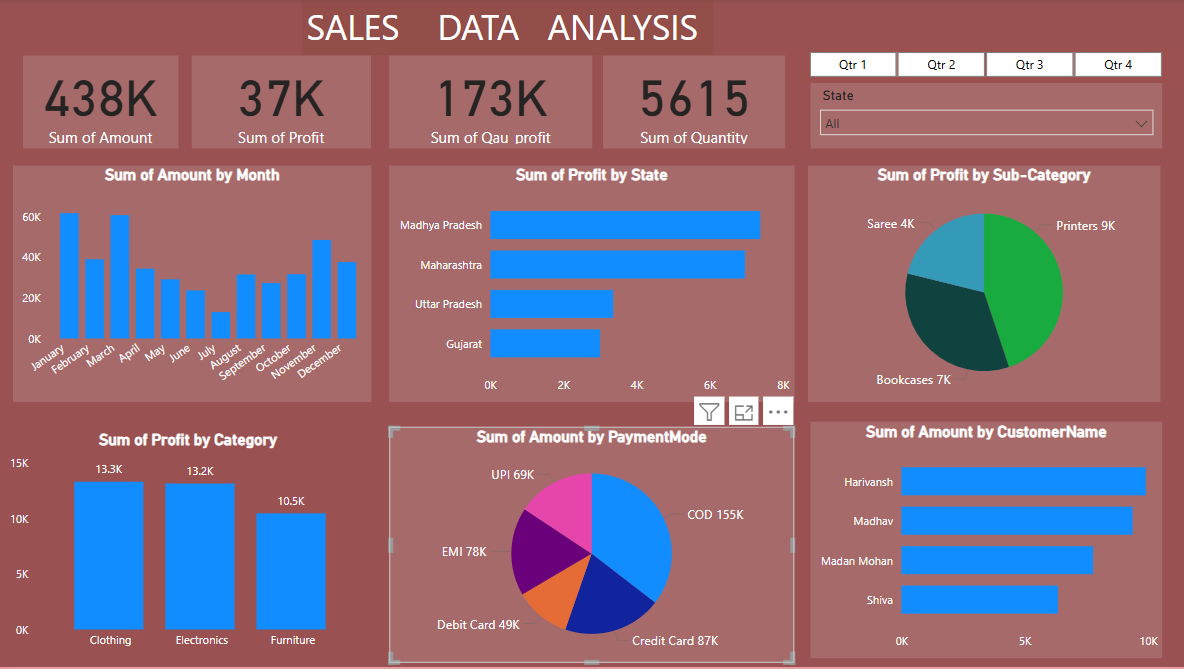

This screenshot's page, from the dashboard's own definition file:
{"tool":"powerbi","page":{"name":"Page 1","canvas":[1280,720],"ordinal":0},"visuals":[{"type":"columnChart","fields":{"Y":["Details (2).Amount"],"Category":["Orders.Order Date.Variation.Date Hierarchy.Month"]},"box":[15.7,180,385.7,254.3],"z":0},{"type":"clusteredColumnChart","fields":{"Category":["Details (2).Category"],"Y":["Details (2).Profit"]},"box":[8.6,465.7,392.9,244.3],"z":1000},{"type":"clusteredBarChart","fields":{"Y":["Details (2).Profit"],"Category":["Orders.State"]},"box":[421.4,180,435.7,254.3],"z":2000},{"type":"pieChart","fields":{"Series":["Details (2).PaymentMode"],"Y":["Details (2).Amount"]},"box":[421.4,461.4,435.7,254.3],"z":3000},{"type":"card","fields":{"Values":["Details (2).Amount"]},"box":[27.1,61.4,167.1,100],"z":4000},{"type":"card","fields":{"Values":["Details (2).Profit"]},"box":[208.6,61.4,192.9,100],"z":5000},{"type":"card","fields":{"Values":["Details (2).Quantity"]},"box":[651.4,61.4,195.7,100],"z":6000},{"type":"slicer","fields":{"Values":["Orders.Order Date.Variation.Date Hierarchy.Quarter"]},"box":[847.1,51.4,428.6,40],"z":7000},{"type":"clusteredBarChart","fields":{"Y":["Details (2).Amount"],"Category":["Orders.CustomerName"]},"box":[874.3,455.7,378.6,254.3],"z":8000},{"type":"slicer","fields":{"Values":["Orders.State"]},"box":[874.3,91.4,378.6,70],"z":9000},{"type":"pieChart","fields":{"Category":["Details (2).Sub-Category"],"Y":["Details (2).Profit"]},"box":[871.4,180.2,379.2,254.2],"z":10000},{"type":"textbox","box":[327.1,0,442.9,61.4],"z":11000},{"type":"card","fields":{"Values":["Details (2).Qau_profit"]},"box":[421.4,61.4,218.6,100],"z":12000}]}

Visuals, with their boxes in screenshot pixels (x1, y1, x2, y2), scaled from the page's 1280x720 canvas onto the 1184x669 screenshot:
columnChart - Details (2).Amount x Orders.Order Date.Variation.Date Hierarchy.Month: box(15, 167, 371, 404)
clusteredColumnChart - Details (2).Category x Details (2).Profit: box(8, 433, 371, 660)
clusteredBarChart - Details (2).Profit x Orders.State: box(390, 167, 793, 404)
pieChart - Details (2).PaymentMode x Details (2).Amount: box(390, 429, 793, 665)
card - Details (2).Amount: box(25, 57, 180, 150)
card - Details (2).Profit: box(193, 57, 371, 150)
card - Details (2).Quantity: box(603, 57, 784, 150)
slicer - Orders.Order Date.Variation.Date Hierarchy.Quarter: box(784, 48, 1180, 85)
clusteredBarChart - Details (2).Amount x Orders.CustomerName: box(809, 423, 1159, 660)
slicer - Orders.State: box(809, 85, 1159, 150)
pieChart - Details (2).Sub-Category x Details (2).Profit: box(806, 167, 1157, 404)
textbox: box(303, 0, 712, 57)
card - Details (2).Qau_profit: box(390, 57, 592, 150)
